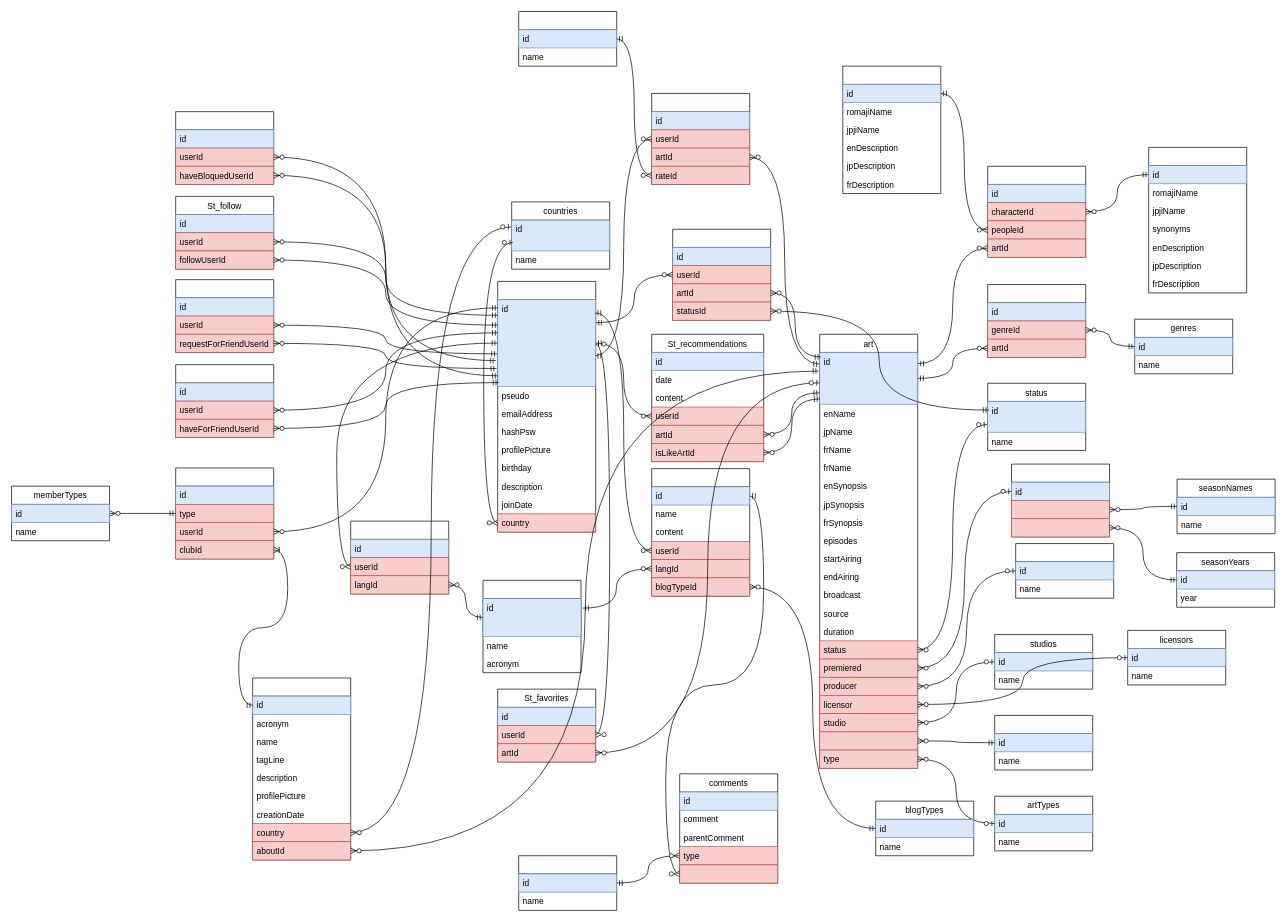
Some shapes in this 1287 by 922 pixel diagram are drawn without their labels. The shapes that lost their labels are listed below. From the top down, each one's box as (x1, y1, x2, y2) in pixels, then its label:
(518, 11, 617, 66): rates
(175, 111, 274, 184): St_haveBloqued
(651, 93, 750, 184): St_userRates
(842, 65, 941, 194): people
(987, 166, 1086, 257): St_artCharacters
(1148, 147, 1247, 293): characters
(672, 229, 771, 320): St_userStatus
(175, 279, 274, 352): St_friendRequest
(987, 284, 1086, 357): St_artGenres
(175, 364, 274, 438): St_haveForFriend
(497, 281, 596, 532): users
(175, 467, 274, 559): St_clubMemberTypes
(1011, 463, 1110, 537): seasons
(1011, 500, 1110, 519): seasonName
(651, 468, 750, 596): blogs
(1011, 518, 1110, 537): seasonYear
(350, 520, 449, 594): St_blogLang
(1015, 543, 1114, 598): producers
(482, 580, 581, 673): lang
(819, 731, 918, 750): magazine
(994, 715, 1093, 770): magazines
(252, 677, 351, 860): clubs
(518, 855, 617, 910): commentTypes
(679, 864, 778, 883): blogId
